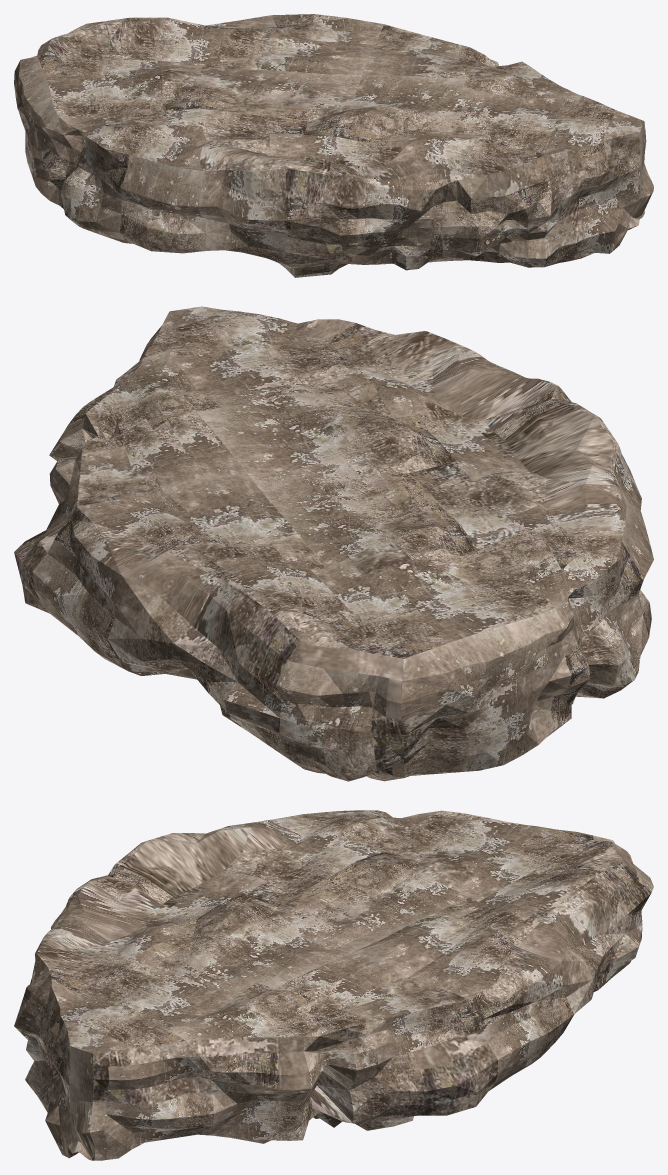
The model's file is Roca6.fbx.
3 views of the same model, one above another, from view 1: azimuth 30°, elevation 25°; view 2: azimuth 150°, elevation 25°; view 3: azimuth 270°, elevation 25° (orthographic). The views are drawn at different scales.
Parts seen in each view (by area): view 1: Escombro2; view 2: Escombro2; view 3: Escombro2.
Part boxes in pixels (x1,y1,x2,y2): Escombro2: [14, 14, 653, 277]; Escombro2: [14, 306, 653, 781]; Escombro2: [14, 810, 653, 1160].
Size of the model in its own units: 837 by 263 by 868.
